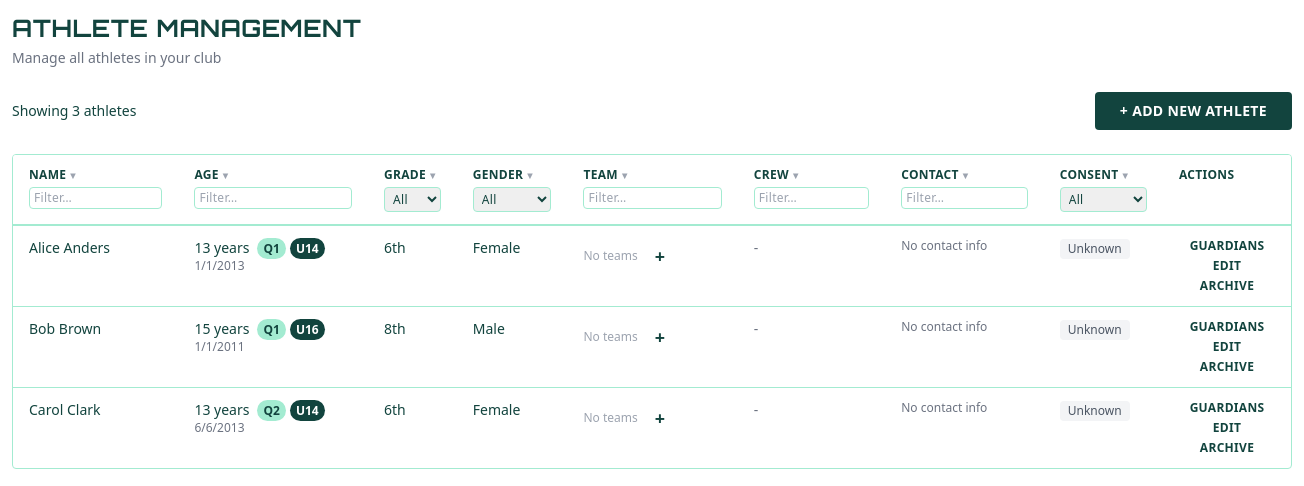
Test case: AthleteManagement search + filters (CA-18) › filters by name search
Expected: the link "Alice Anders" is shown, [29,238,110,257]
In the 1st field with placeholder "Filter…": (96, 198) [29,187,162,209], type "carol"
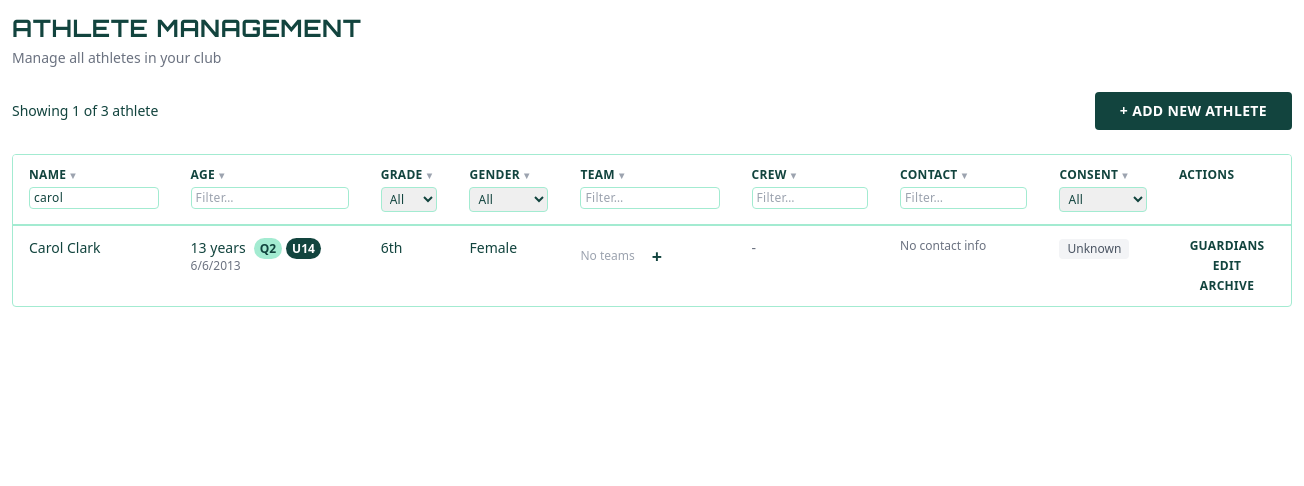
Expected: the link "Carol Clark" is shown, [29,238,100,257]
Now the link "Alice Anders" is gone
Now the link "Bob Brown" is gone
